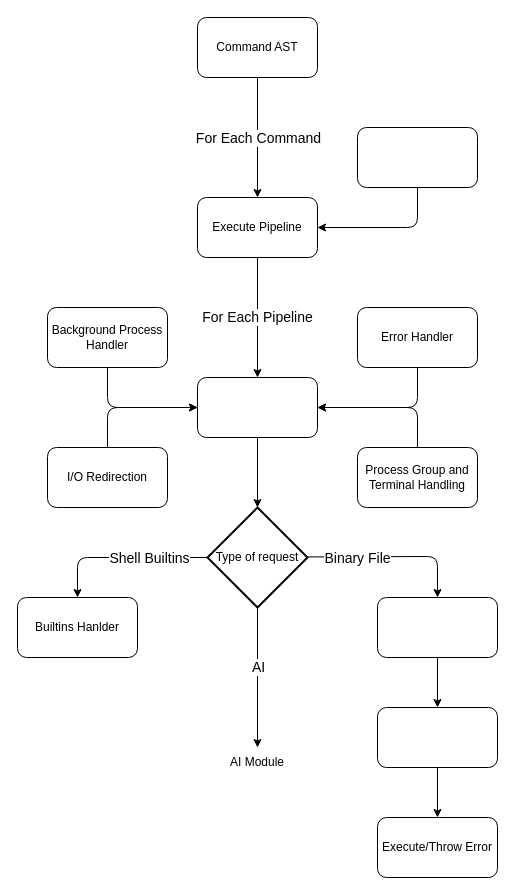
This 515x895 diagram has some shape labels left out. Each missing label, with the box of its shape:
Execute Pipeline Component: (196, 376, 318, 438)
Find Path of file: (376, 706, 498, 768)
Fork: (376, 596, 498, 658)
Seperator Handler - && or ||: (356, 126, 478, 188)
